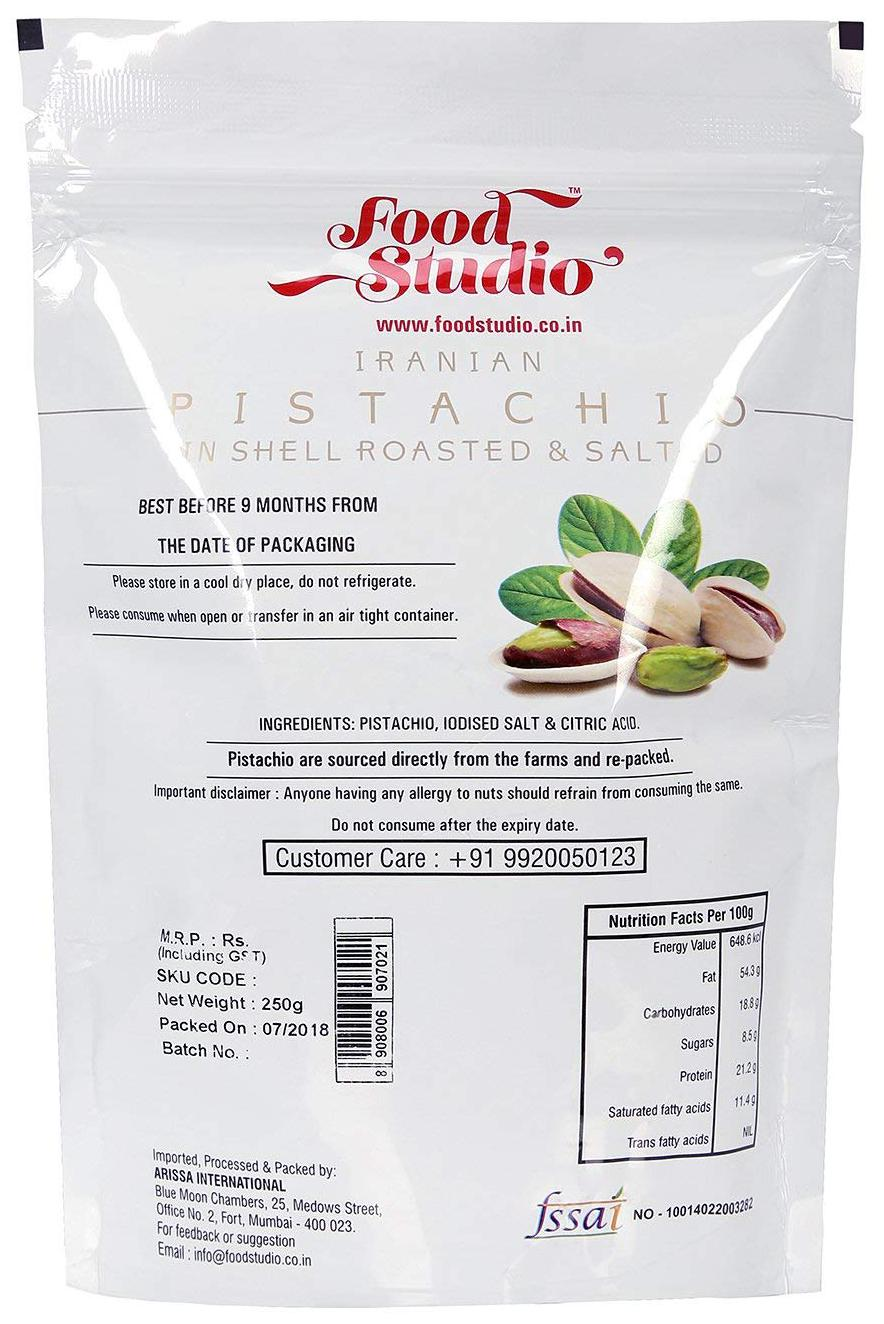fssai: (524, 1190, 624, 1236)
